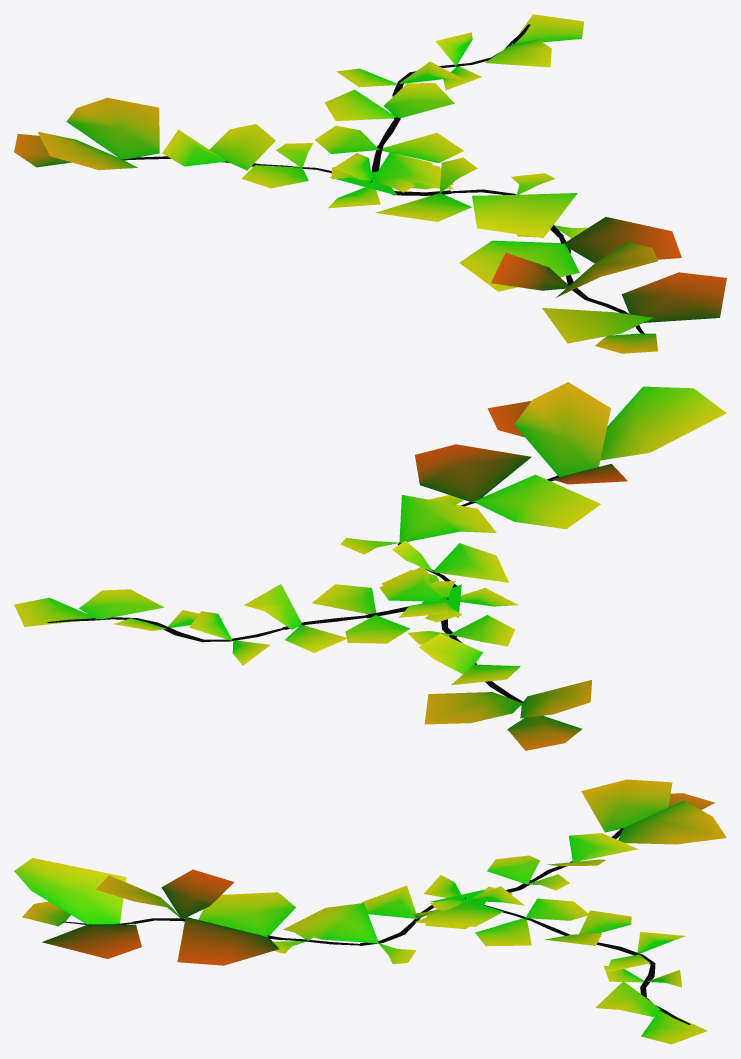
File: Var4_LOD1.fbx
3 views of the same model, one above another, from view 1: azimuth 30°, elevation 25°; view 2: azimuth 150°, elevation 25°; view 3: azimuth 270°, elevation 25° (orthographic). The views are drawn at different scales.
Parts seen in each view (by area): view 1: _b7f8_Var4_LOD1; view 2: _b7f8_Var4_LOD1; view 3: _b7f8_Var4_LOD1.
Boxes of the visible parts, <box> form: _b7f8_Var4_LOD1: <box>14,14,726,353</box>; _b7f8_Var4_LOD1: <box>14,382,726,750</box>; _b7f8_Var4_LOD1: <box>14,779,726,1044</box>.
Size of the model in its own units: 41.21 by 4.19 by 49.79.
